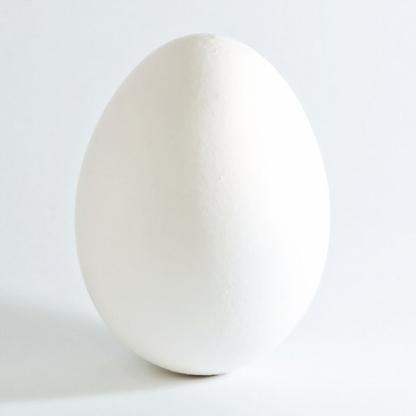egg: (69, 32, 336, 382)
